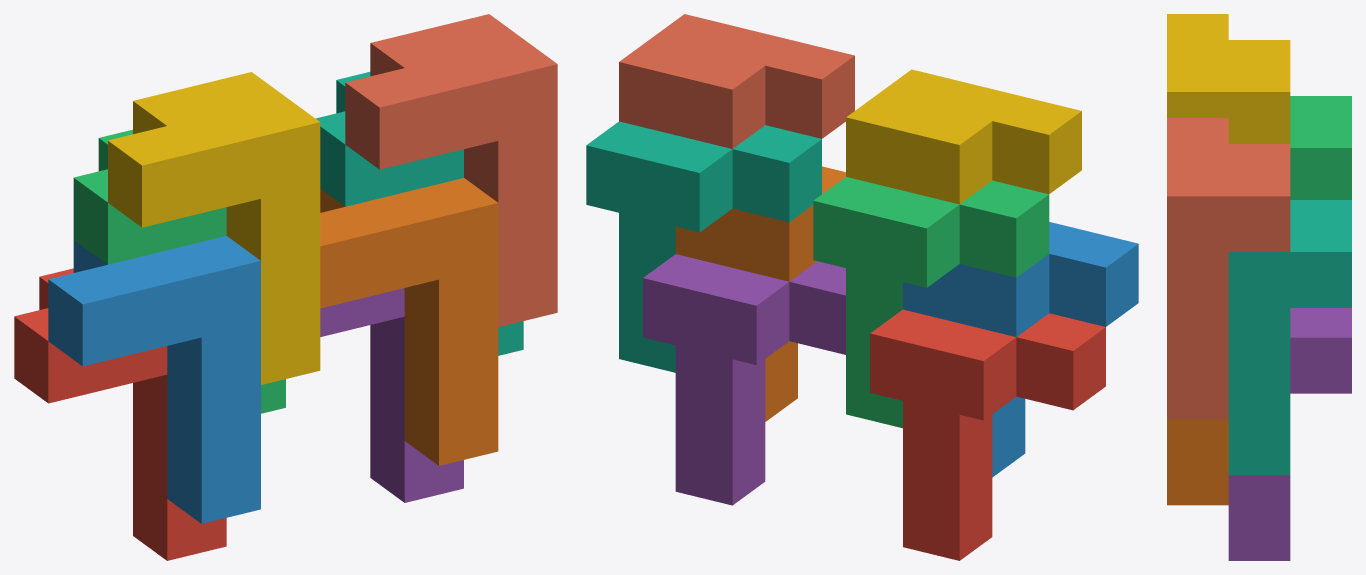
File: tiling.obj
3 renders of one model, left to right at view 1: azimuth 30°, elevation 25°; view 2: azimuth 150°, elevation 25°; view 3: azimuth 270°, elevation 25°, orthographic. The views are drawn at different scales.
Parts seen in each view (by area): view 1: copy_1_domain_2, copy_1_domain_4, copy_1_domain_8, copy_1_domain_6, copy_1_domain_1, copy_1_domain_5, copy_1_domain_3, copy_1_domain_7; view 2: copy_1_domain_1, copy_1_domain_5, copy_1_domain_3, copy_1_domain_7, copy_1_domain_4, copy_1_domain_8, copy_1_domain_2, copy_1_domain_6; view 3: copy_1_domain_8, copy_1_domain_7, copy_1_domain_4, copy_1_domain_5, copy_1_domain_3, copy_1_domain_6.
Boxes of the visible parts, x1,y1,x2,y2 form: copy_1_domain_2: (48,236,260,523); copy_1_domain_4: (108,72,320,384); copy_1_domain_8: (345,14,557,326); copy_1_domain_6: (320,178,498,465); copy_1_domain_1: (14,268,226,560); copy_1_domain_5: (320,288,463,502); copy_1_domain_3: (73,129,285,413); copy_1_domain_7: (315,72,523,355); copy_1_domain_1: (870,309,1105,560); copy_1_domain_5: (643,254,845,505); copy_1_domain_3: (813,177,1049,428); copy_1_domain_7: (586,121,821,372); copy_1_domain_4: (846,69,1081,204); copy_1_domain_8: (619,14,854,148); copy_1_domain_2: (903,222,1138,477); copy_1_domain_6: (675,166,845,421); copy_1_domain_8: (1167,118,1290,419); copy_1_domain_7: (1228,200,1351,475); copy_1_domain_4: (1167,14,1290,143); copy_1_domain_5: (1228,308,1351,560); copy_1_domain_3: (1290,96,1351,199); copy_1_domain_6: (1167,419,1228,505).
Size of the model in its own units: 8 by 7 by 3.
